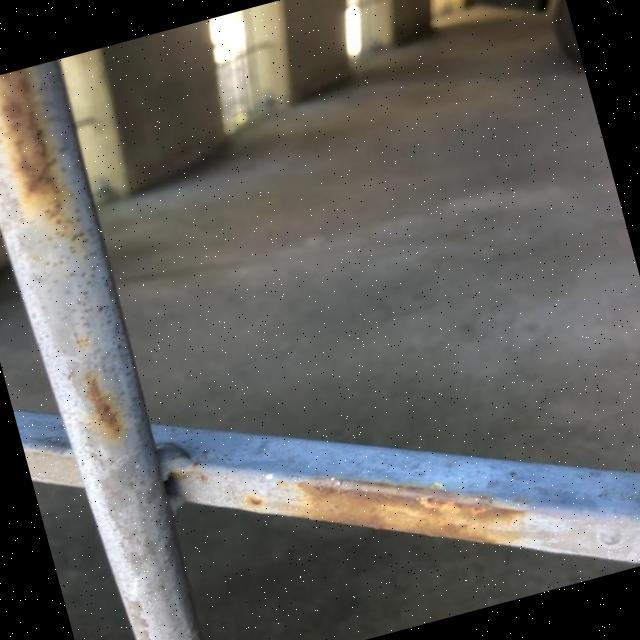Corrosion: (0, 64, 84, 253)
